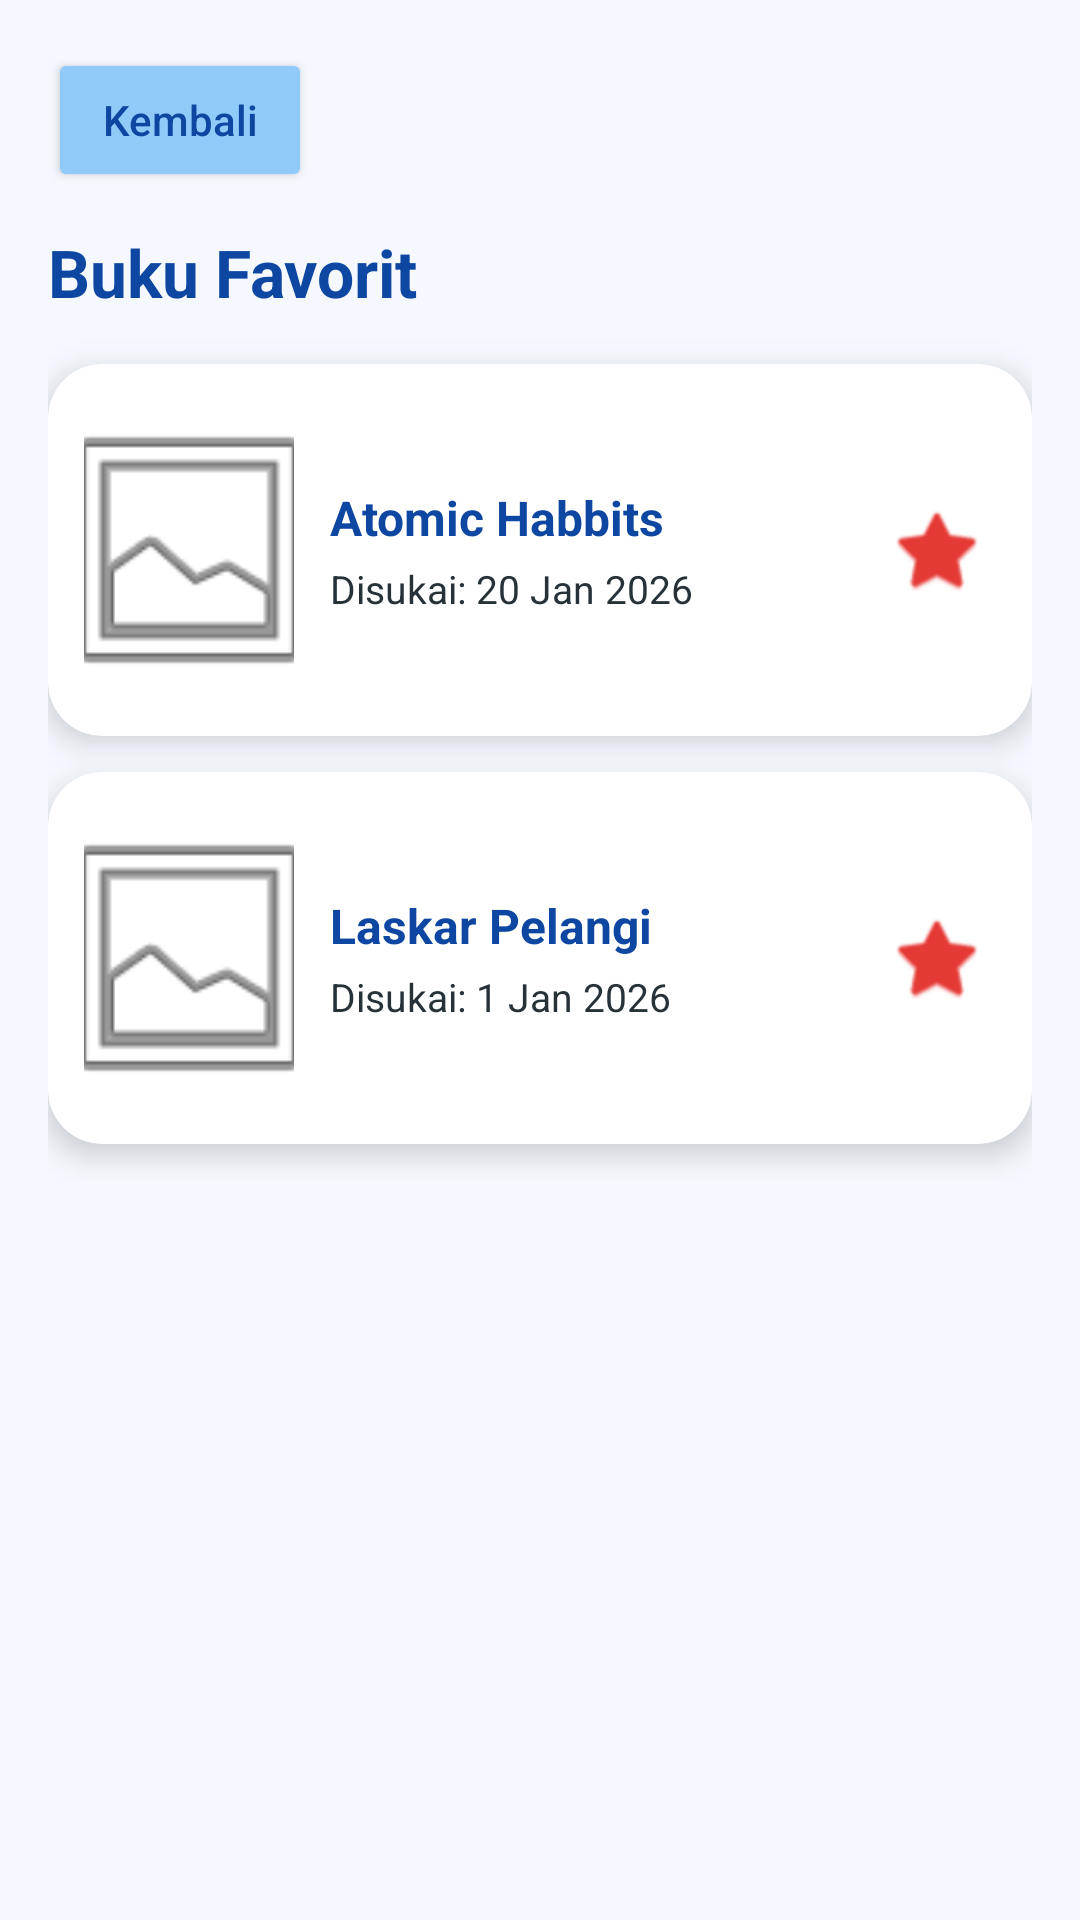

Screen size 1080px x 1920px. Icon name, then its center in pixels as (x,y):
Hapus dari favorit: (937,551), (937,959)
